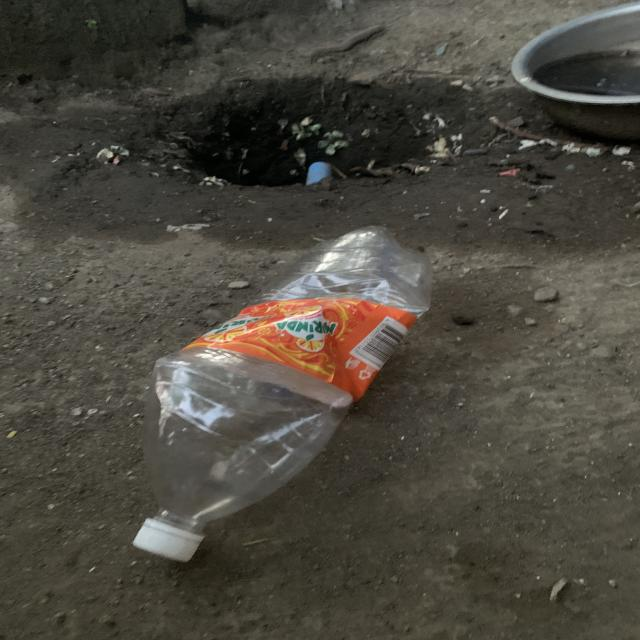Bottle: (134, 226, 432, 561)
